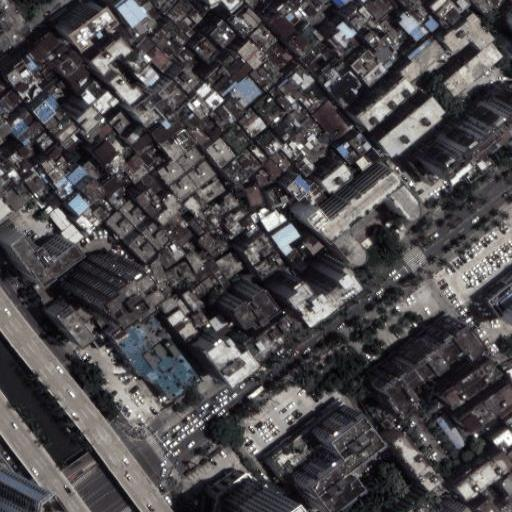building: (307, 170, 422, 265), (365, 309, 475, 407), (420, 83, 512, 175), (292, 404, 371, 506), (116, 313, 200, 401), (272, 255, 348, 317), (379, 97, 447, 159), (63, 251, 127, 311), (356, 77, 417, 132), (443, 42, 504, 97), (392, 433, 446, 494), (441, 360, 503, 411), (453, 449, 512, 501), (206, 336, 263, 389), (269, 427, 326, 480), (246, 312, 304, 362), (67, 6, 121, 54), (441, 12, 494, 55), (242, 232, 287, 282), (398, 40, 447, 84), (320, 61, 366, 107), (234, 289, 282, 332), (151, 117, 195, 163), (310, 98, 354, 143), (27, 31, 74, 71), (226, 477, 279, 512), (91, 37, 135, 77), (130, 88, 174, 128), (5, 61, 45, 103), (37, 295, 76, 338), (0, 448, 26, 512), (287, 124, 327, 164), (350, 48, 389, 88), (223, 148, 263, 187), (454, 395, 493, 434), (215, 471, 252, 512), (435, 411, 469, 453), (363, 18, 405, 52), (136, 36, 174, 73), (130, 131, 166, 168), (189, 115, 226, 151), (478, 378, 512, 417), (222, 207, 262, 239), (337, 131, 373, 166), (228, 4, 263, 39), (320, 164, 356, 198), (185, 266, 220, 300), (326, 19, 361, 53), (167, 308, 200, 344), (302, 42, 336, 76), (230, 74, 264, 108), (139, 218, 172, 253), (269, 222, 301, 258), (145, 260, 177, 296), (127, 51, 159, 87), (110, 74, 145, 106), (0, 1, 25, 45), (117, 151, 149, 184), (31, 93, 64, 125), (23, 165, 55, 198), (253, 92, 285, 125), (206, 64, 238, 97), (117, 196, 149, 228), (207, 18, 239, 50), (236, 38, 268, 70), (164, 257, 197, 288), (90, 136, 121, 169), (397, 11, 428, 44), (215, 248, 246, 280), (185, 159, 217, 190), (74, 105, 106, 136), (53, 119, 85, 150), (193, 33, 224, 65), (221, 124, 252, 156), (157, 79, 188, 110), (266, 10, 297, 41), (299, 84, 330, 115), (254, 128, 285, 159), (155, 192, 184, 225), (160, 20, 191, 50), (150, 30, 181, 60), (248, 23, 278, 54), (207, 138, 237, 169), (208, 103, 238, 134), (104, 208, 133, 240), (285, 29, 315, 59), (238, 108, 268, 138), (196, 80, 225, 111), (107, 108, 136, 138), (56, 49, 86, 78), (287, 63, 316, 93), (184, 92, 213, 122), (200, 233, 231, 261), (67, 65, 96, 94), (172, 66, 201, 95), (265, 42, 294, 71), (263, 151, 292, 180), (128, 232, 156, 262), (197, 176, 227, 204), (175, 146, 205, 174), (177, 7, 205, 37), (49, 148, 77, 178), (105, 129, 132, 160), (22, 52, 49, 83), (168, 174, 197, 202), (346, 4, 374, 32), (277, 76, 305, 104), (258, 57, 285, 86), (159, 293, 190, 318), (201, 200, 228, 228), (226, 56, 253, 84), (16, 122, 45, 148), (161, 212, 188, 239), (44, 109, 72, 135), (8, 111, 36, 137), (249, 66, 275, 94), (204, 257, 229, 286), (260, 207, 287, 233), (158, 161, 185, 187), (92, 90, 119, 116), (76, 208, 102, 235), (241, 185, 267, 212), (221, 93, 247, 120), (86, 120, 114, 145), (365, 0, 395, 23), (284, 248, 310, 274), (81, 178, 107, 204), (67, 190, 93, 216), (209, 311, 234, 338), (473, 495, 512, 512), (47, 205, 72, 231), (273, 114, 298, 140), (287, 175, 312, 200), (183, 190, 208, 215), (51, 176, 76, 201), (79, 81, 105, 105), (217, 191, 241, 216), (40, 158, 64, 183), (299, 23, 324, 47), (176, 104, 200, 129), (297, 0, 323, 23), (143, 196, 167, 220), (184, 249, 207, 274), (407, 38, 433, 60), (156, 245, 179, 269), (247, 142, 270, 166), (253, 166, 276, 190), (190, 308, 212, 333), (305, 182, 327, 207), (408, 1, 431, 24), (375, 45, 398, 68), (281, 141, 304, 164), (265, 182, 288, 205), (181, 289, 203, 312), (63, 222, 85, 245), (271, 87, 293, 110), (490, 428, 512, 450), (294, 156, 316, 178), (66, 166, 89, 187), (470, 0, 501, 15), (286, 101, 307, 123), (173, 226, 195, 246), (167, 239, 187, 261), (193, 210, 213, 232), (303, 234, 324, 254), (302, 116, 322, 137), (210, 222, 230, 242), (35, 132, 55, 152), (17, 160, 38, 179), (250, 204, 270, 223), (420, 14, 440, 33), (499, 475, 512, 503), (124, 126, 143, 145), (103, 176, 122, 195), (354, 153, 373, 171), (108, 191, 127, 209), (177, 45, 195, 64), (499, 4, 512, 30), (136, 190, 155, 207), (92, 204, 109, 222), (188, 220, 205, 237), (429, 0, 448, 15), (504, 415, 512, 433), (505, 448, 512, 464), (506, 369, 512, 381)
